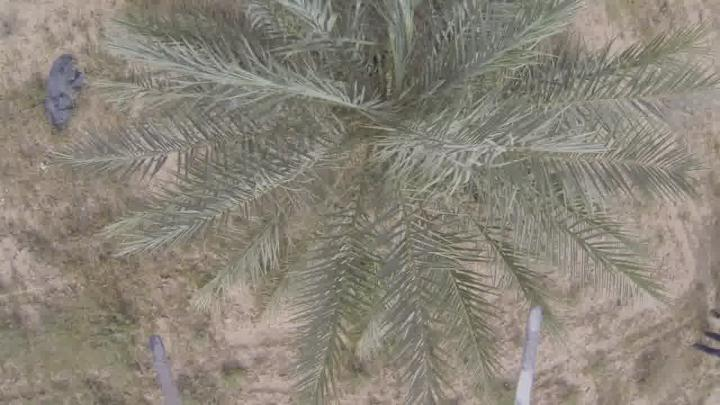Date-Palm-Crown: (212, 3, 542, 272)
